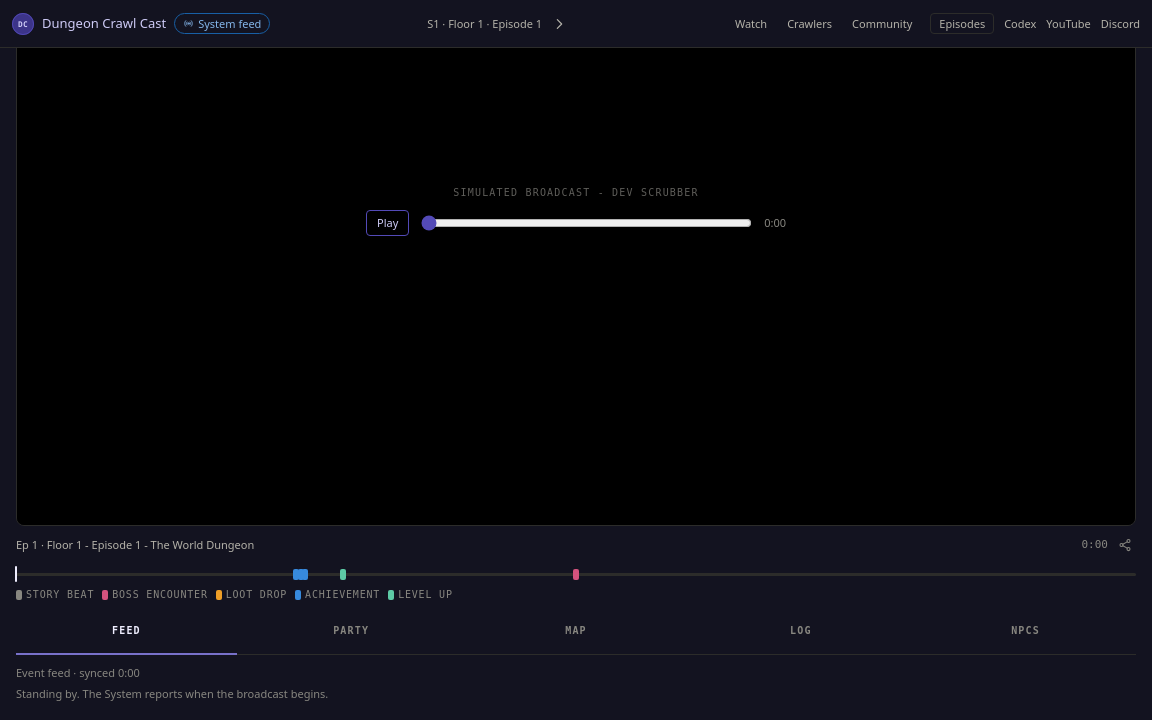
Test: EpisodePage on a phone › opens a tapped frame as a bottom sheet over the page, with the glance inside
(page scrolled)
What coordinates should you click on to do the following:
click the tab "Party"
I would click on:
 (351, 632)
Its box is 241,610 -> 462,654.
(page scrolled)
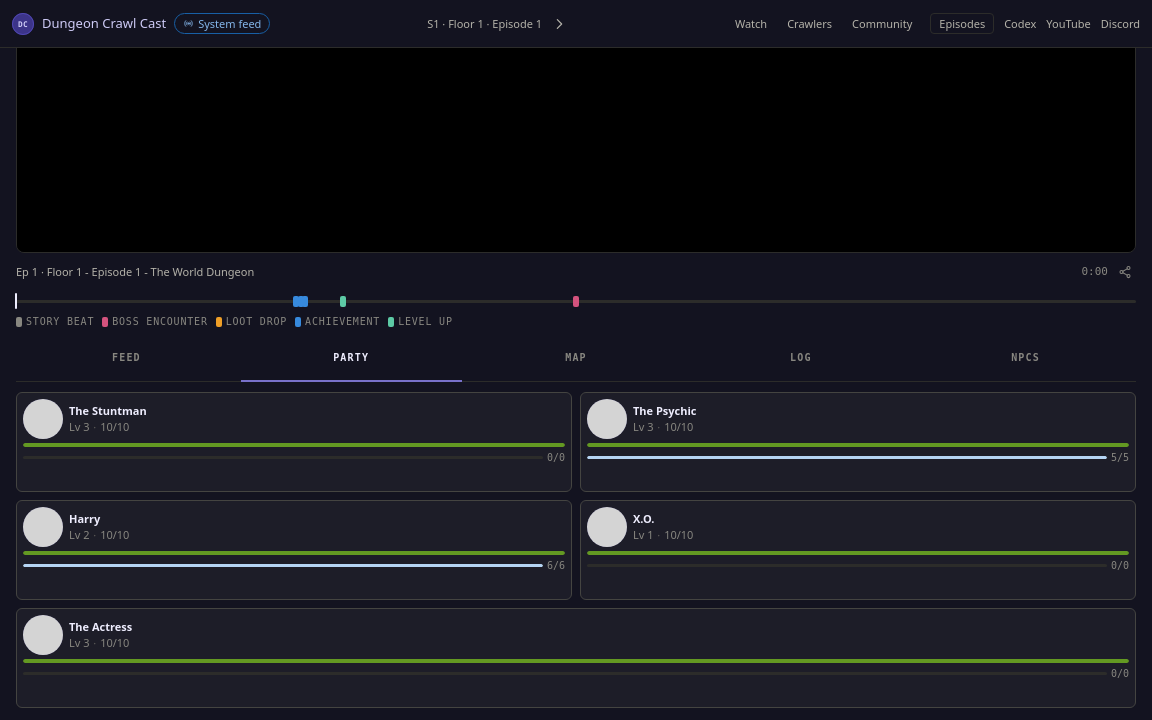
What coordinates should you click on to do the following:
click the button with test id "crawler-frame" showing "Harry Lv 2 · 10/10 6/6"
I would click on:
 (294, 550)
Its box is 16,500 -> 572,600.
(page scrolled)
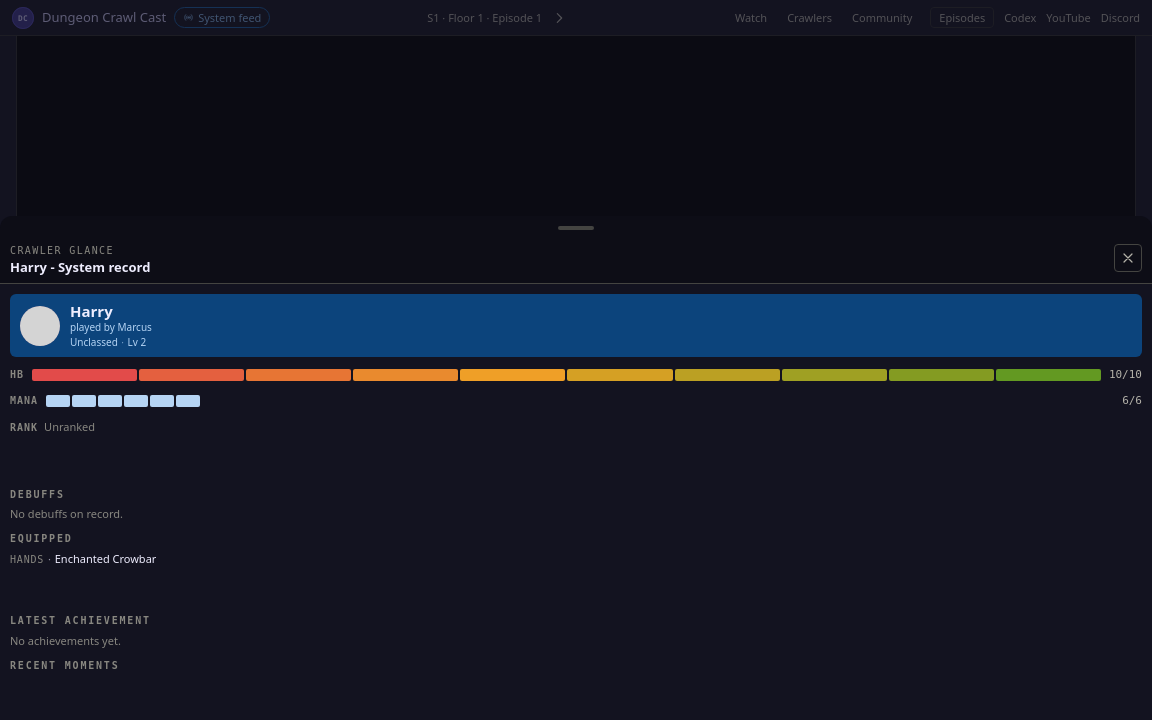
Check: the element with test id "crawler-glance" is shown, box 10,294 -> 1142,719
Check: the element with test id "sheet-handle" is shown, box 0,216 -> 1151,236
